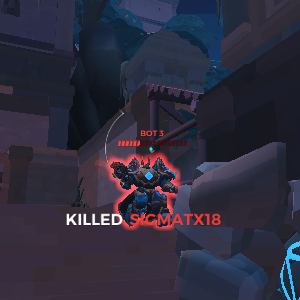model: (108, 155, 180, 232)
